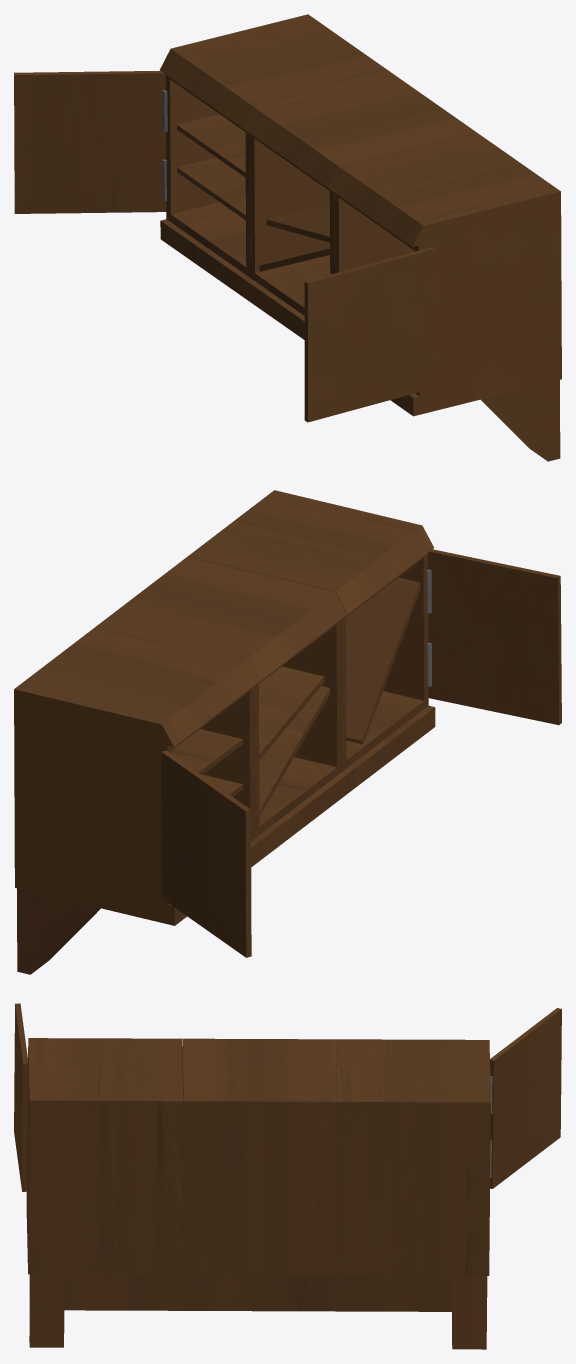
File: cup board_ver2.fbx
3 renders of one model, top to bottom at view 1: azimuth 30°, elevation 25°; view 2: azimuth 150°, elevation 25°; view 3: azimuth 270°, elevation 25°, orthographic. The views are drawn at different scales.
Visible parts, largest first — view 1: Cube.060; view 2: Cube.060; view 3: Cube.060.
Boxes of the visible parts, x1,y1,x2,y2 form: Cube.060: (14,14,561,461); Cube.060: (14,490,561,974); Cube.060: (14,1003,561,1349).
Bounding box in the file's own units: 254 × 250 × 495.
